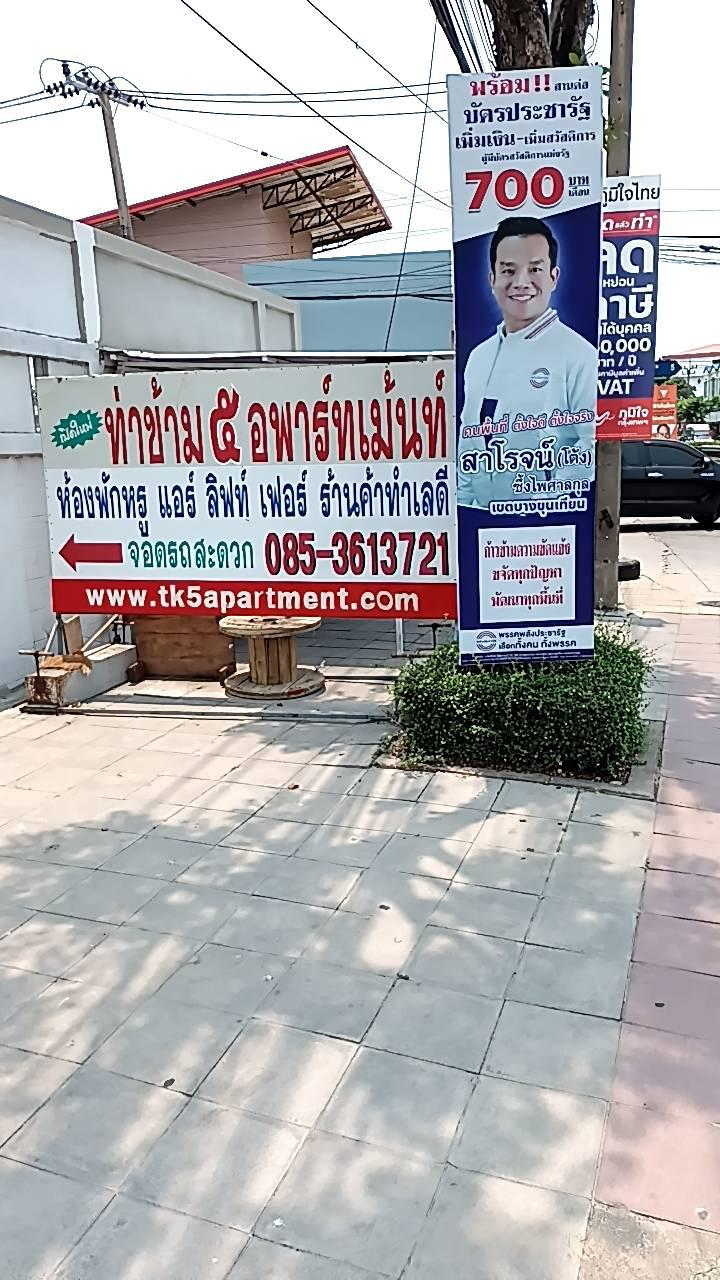Banner: (426, 76, 598, 659), (588, 162, 670, 439)
